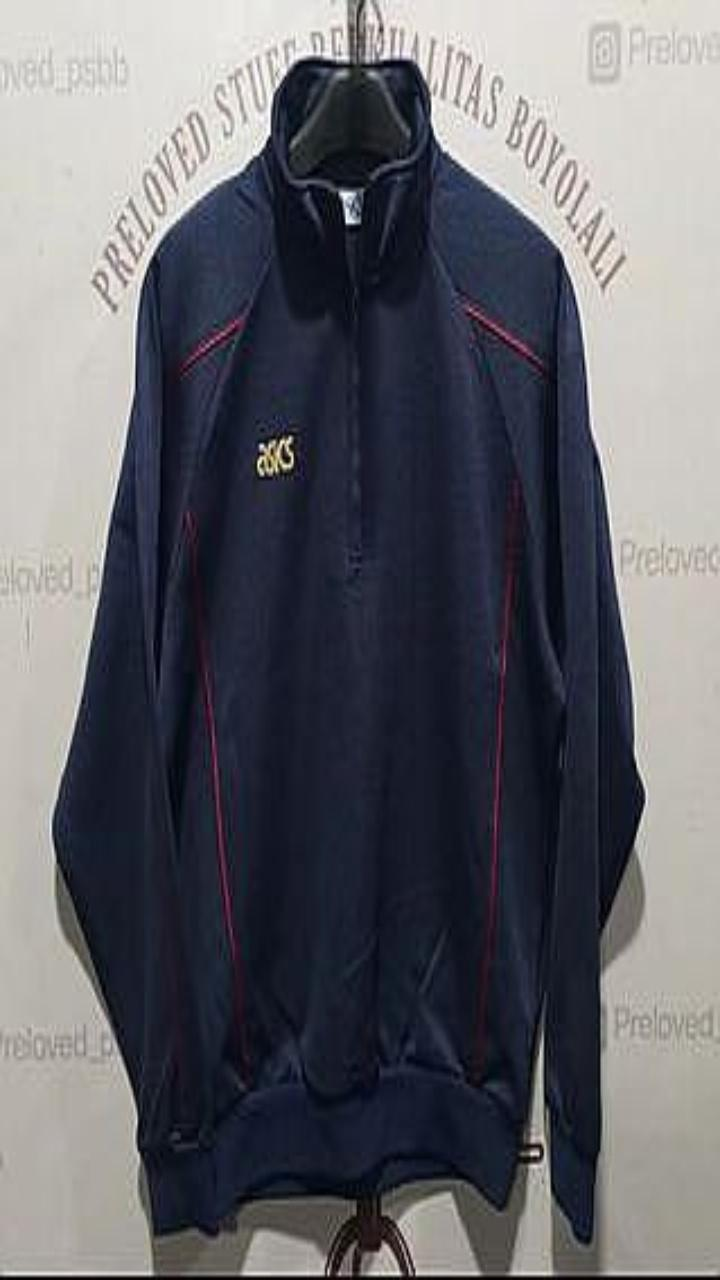Sports_Jacket: (52, 56, 644, 1242)
